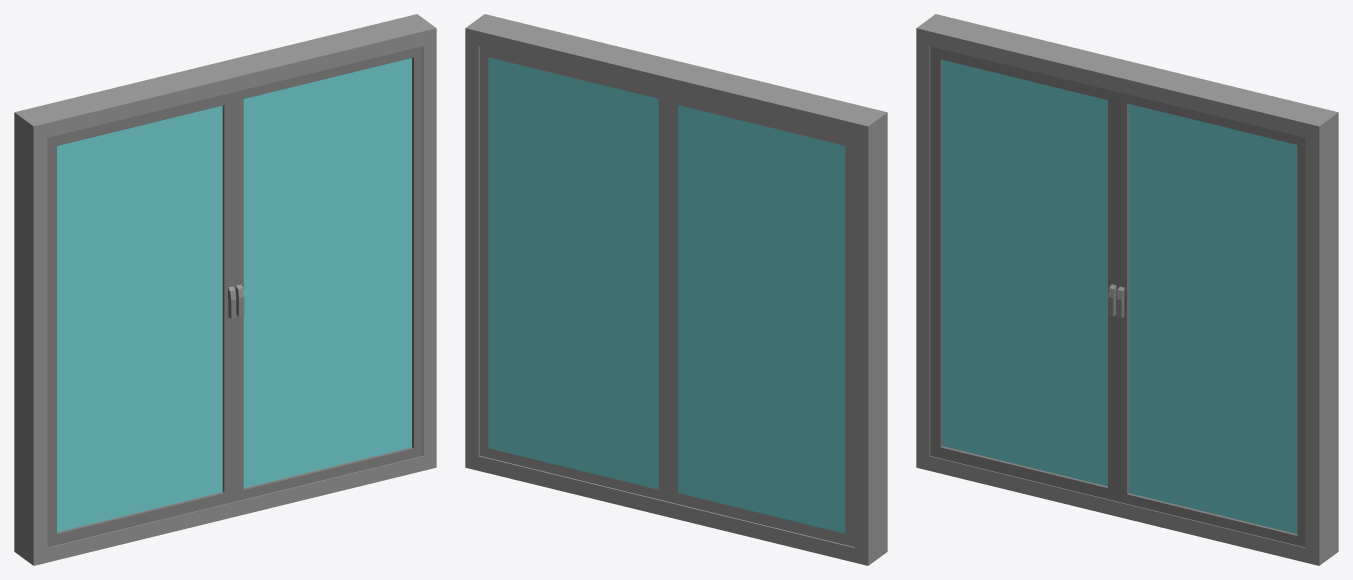
Rendered from balconyWindow2.fbx.
The picture shows the model from 3 angles, left to right: view 1: azimuth 30°, elevation 25°; view 2: azimuth 150°, elevation 25°; view 3: azimuth 330°, elevation 25°; orthographic projection.
Visible parts, largest first — view 1: Balcony; view 2: Balcony; view 3: Balcony.
Part boxes in pixels (left/top/right/bottom): Balcony: left=14, top=14, right=436, bottom=565; Balcony: left=465, top=14, right=887, bottom=565; Balcony: left=916, top=14, right=1338, bottom=565.
Size of the model in its own units: 657 by 685 by 62.92.
